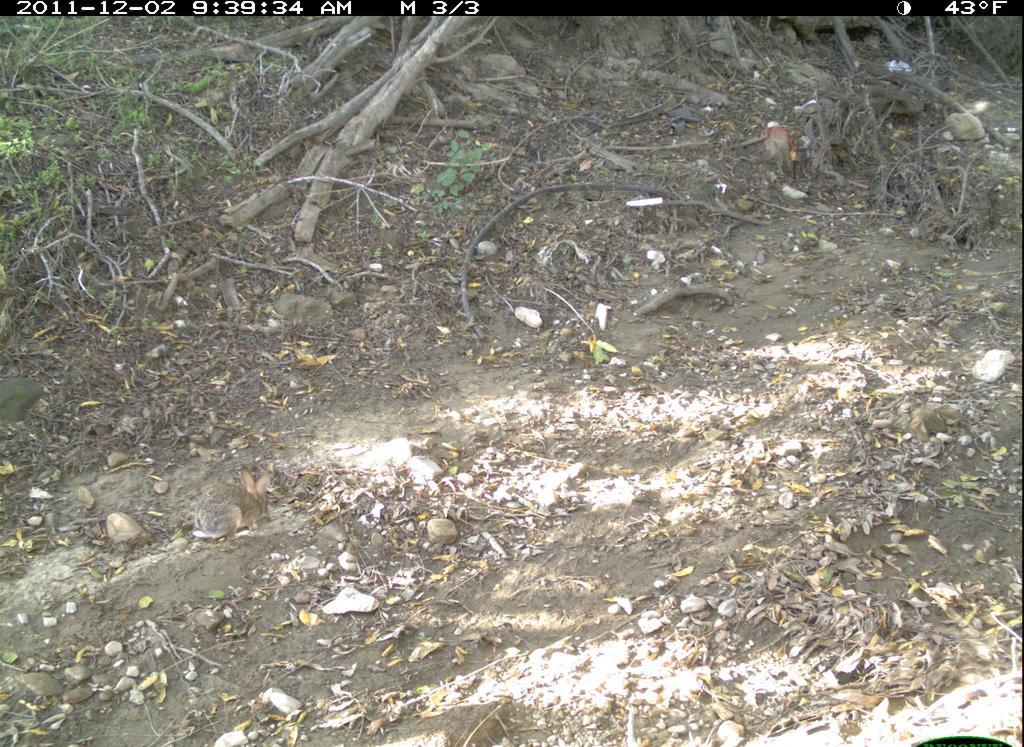rabbit: (182, 456, 282, 555)
